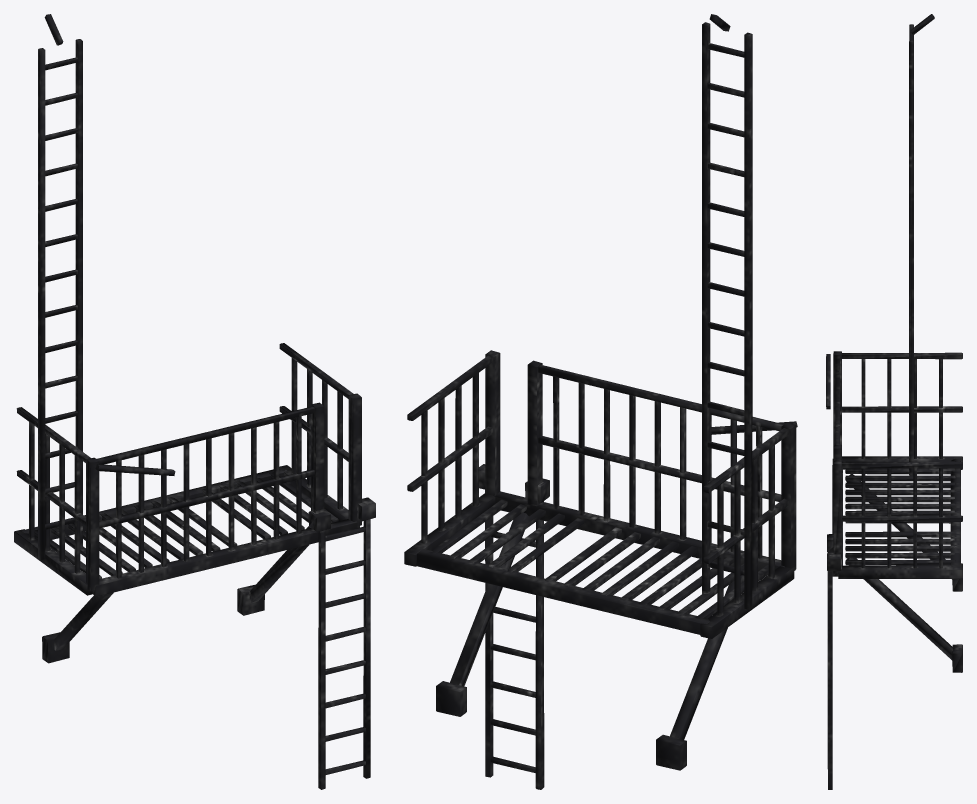
The model's file is Escalera_Incendio.fbx.
3 views of the same model, side by side, from view 1: azimuth 30°, elevation 25°; view 2: azimuth 150°, elevation 25°; view 3: azimuth 270°, elevation 25° (orthographic). The views are drawn at different scales.
Visible parts, largest first — view 1: Escalera_Incendio; view 2: Escalera_Incendio; view 3: Escalera_Incendio.
Boxes of the visible parts, x1,y1,x2,y2 form: Escalera_Incendio: (14, 14, 375, 789); Escalera_Incendio: (404, 14, 797, 789); Escalera_Incendio: (826, 14, 962, 789).
Size of the model in its own units: 7.65 by 19.93 by 3.7.
